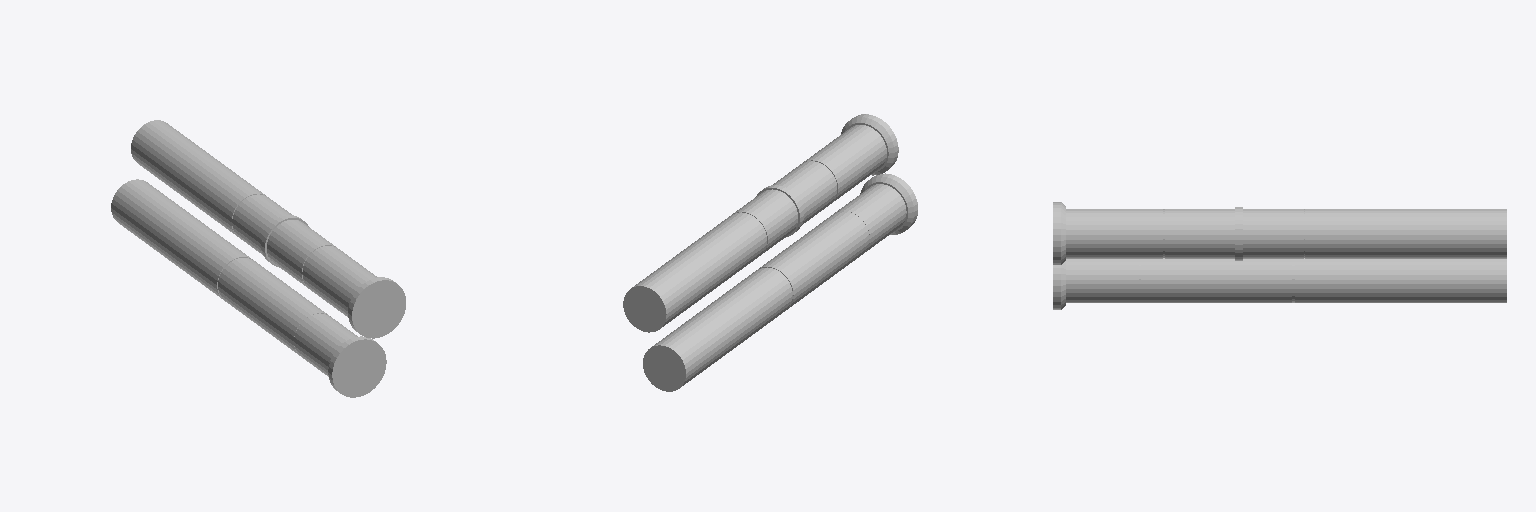
File: pipes_remastered.obj
The picture shows the model from 3 angles: view 1: azimuth 30°, elevation 25°; view 2: azimuth 150°, elevation 25°; view 3: azimuth 270°, elevation 25°; orthographic projection.
Visible parts, largest first — view 1: Cylinder, Cylinder.001; view 2: Cylinder, Cylinder.001; view 3: Cylinder, Cylinder.001.
Boxes of the visible parts, x1,y1,x2,y2 form: Cylinder: [131, 120, 405, 338]; Cylinder.001: [111, 179, 386, 397]; Cylinder: [623, 114, 898, 332]; Cylinder.001: [643, 173, 917, 391]; Cylinder: [1053, 202, 1506, 264]; Cylinder.001: [1053, 258, 1506, 309].
Size of the model in its own units: 6.86 by 9.85 by 36.36.